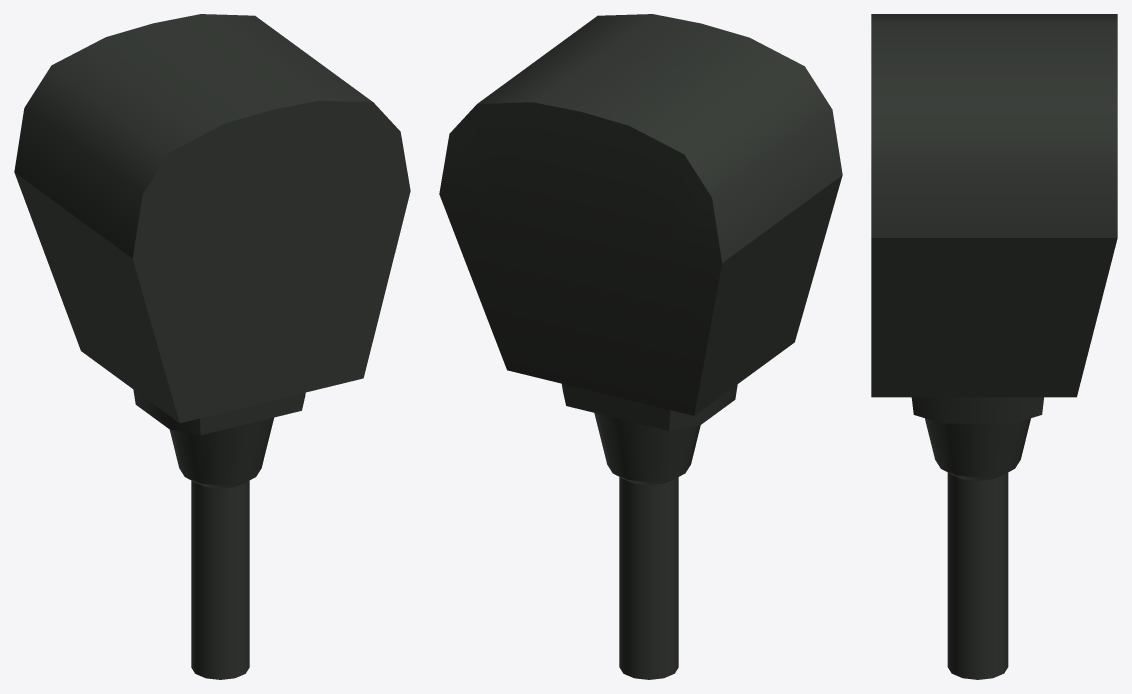
File: tank_turret_tiger.FBX
The picture shows the model from 3 angles, left to right: view 1: azimuth 30°, elevation 25°; view 2: azimuth 150°, elevation 25°; view 3: azimuth 270°, elevation 25°; orthographic projection. The views are drawn at different scales.
Visible parts, largest first — view 1: Box031; view 2: Box031; view 3: Box031.
Part boxes in pixels (<box>): Box031: <box>14,14,410,679</box>; Box031: <box>439,14,842,679</box>; Box031: <box>871,14,1117,679</box>.
Bounding box in the file's own units: 10 × 7.38 × 20.46.
